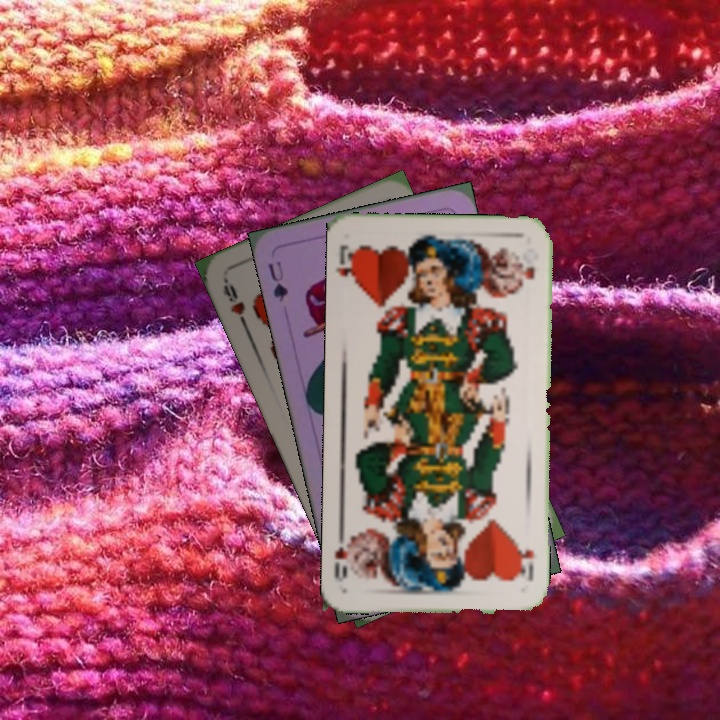GU: (263, 257, 291, 304)
H9: (219, 275, 251, 331)
HO: (333, 240, 360, 291), (514, 538, 537, 584)
